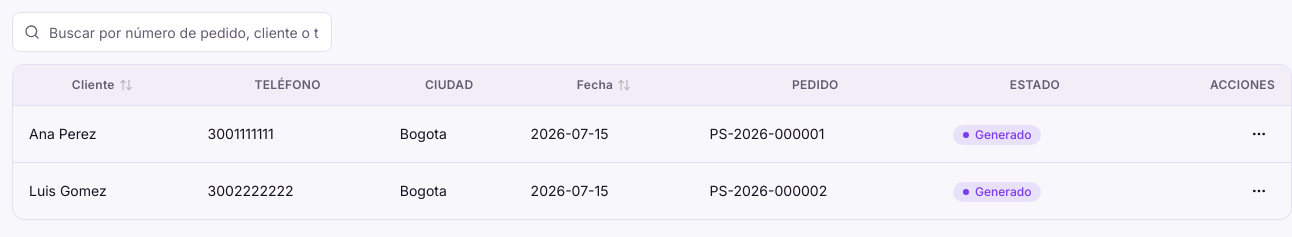
Test case: HistoryTable › shows the date column and filters labels by order number and telephone
Expected: the button "Fecha" is shown, [577,77,631,93]
Expected: the text "2026-07-15" is shown 2 times, [515,106,694,162]; [515,162,694,219]
Type "PS-2026-000001" into the field labelled "Buscar por número de pedido, cliente o teléfono". click: (172, 32)
box: [12,12,332,52]
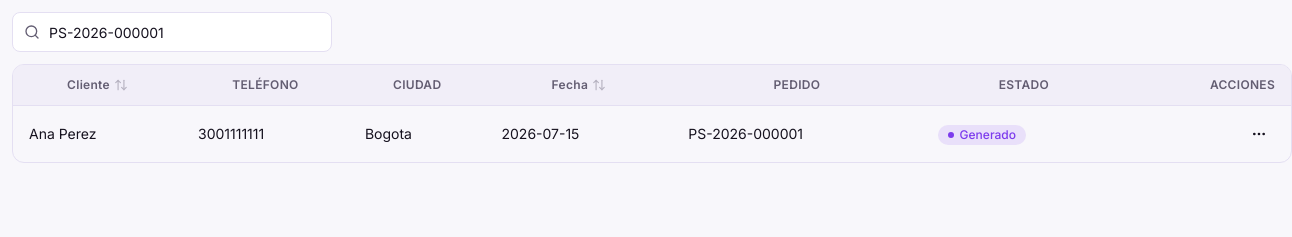
Expected: the text "Ana Perez" is shown, [13,106,182,162]
Result: the text "Luis Gomez" is gone
Replace the text in the field named "Buscar por número de pedido, cliente o teléfono" with "3002222222". click: (172, 32)
box: [12,12,332,52]
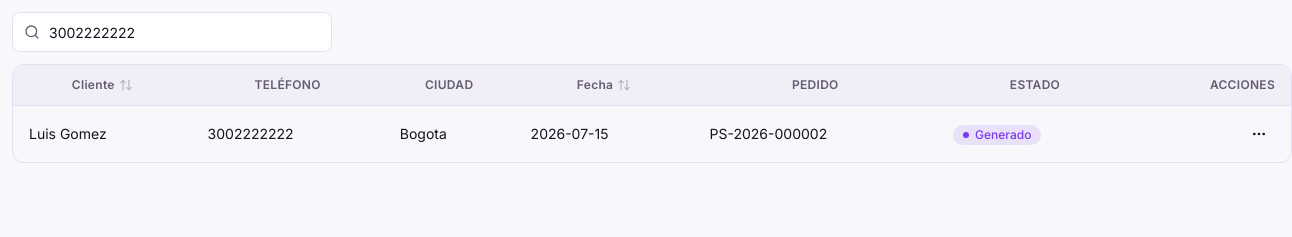
Result: the text "Luis Gomez" is shown at [13,106,192,162]
Result: the text "Ana Perez" is gone
